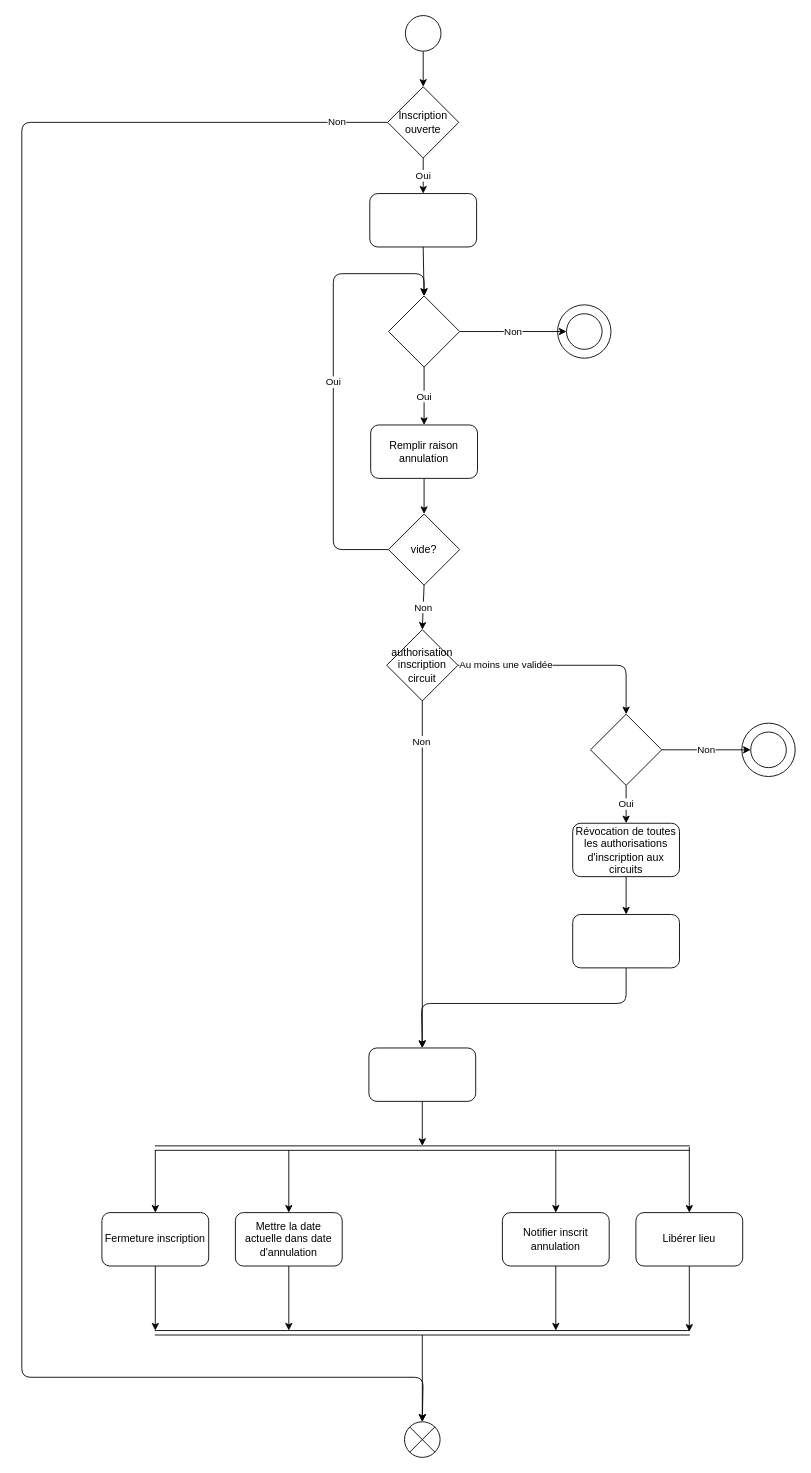
Some shapes in this 811 by 1473 pixel diagram are drawn without their labels. The centre of each missing label's shape, as x and y in pixels:
Annuler événement: the point at 423,220
Notification aux circuits de l'annulation de l'évènement: the point at 626,941
Passage du status de l'événement à annulé: the point at 422,1074
Revalider annulation: the point at 626,749
Valider annulation: the point at 424,331
